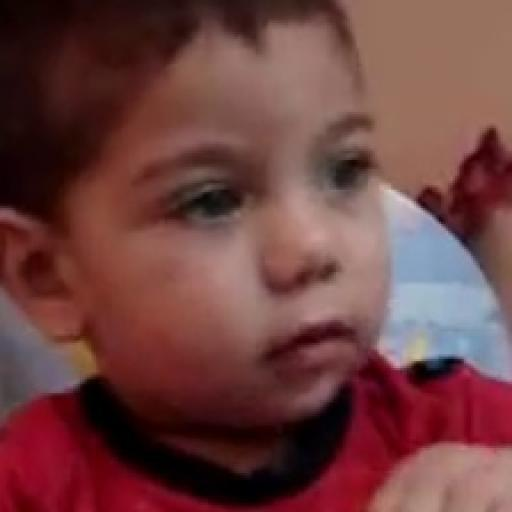Autism: (19, 1, 504, 478)
